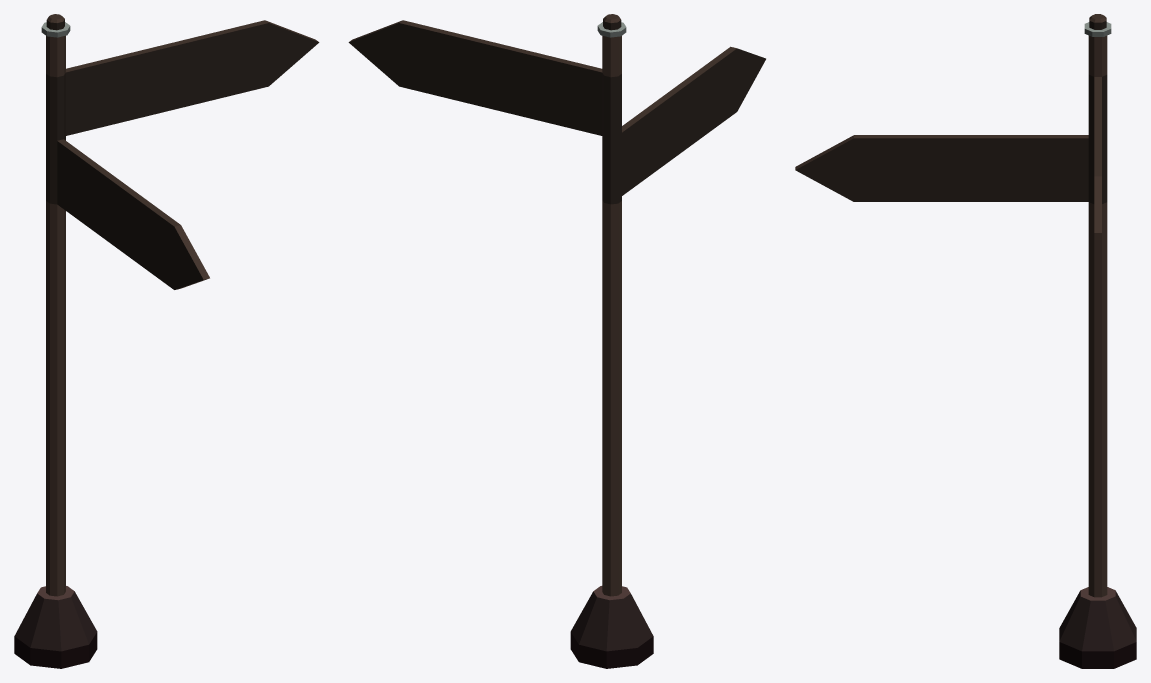
Rendered from SignPost_Directions.glb.
3 views of the same model, side by side, from view 1: azimuth 30°, elevation 25°; view 2: azimuth 150°, elevation 25°; view 3: azimuth 270°, elevation 25° (orthographic).
Visible parts, largest first — view 1: SignPostCity_02; view 2: SignPostCity_02; view 3: SignPostCity_02.
Part boxes in pixels (left/top/right/bottom): SignPostCity_02: left=14, top=14, right=319, bottom=668; SignPostCity_02: left=348, top=14, right=765, bottom=668; SignPostCity_02: left=795, top=14, right=1136, bottom=668.
Size of what is drawn, in the model's own units: 1.19 by 2.44 by 1.19.
Materials: 1 (1 with a texture image).
